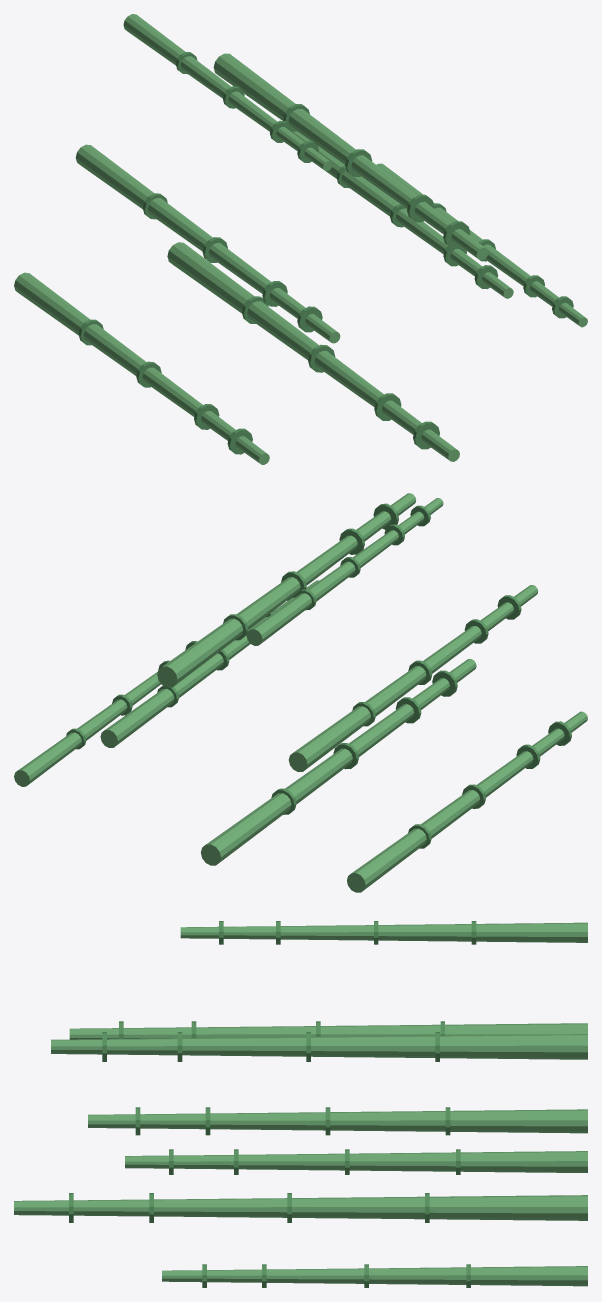
Rendered from probe_bamboo.glb.
The picture shows the model from 3 angles, top to bottom: view 1: azimuth 30°, elevation 25°; view 2: azimuth 150°, elevation 25°; view 3: azimuth 270°, elevation 25°; orthographic projection. The views are drawn at different scales.
Visible parts, largest first — view 1: culm_1, culm_5, culm_0, culm_4, culm_6, culm_2, culm_3; view 2: culm_1, culm_5, culm_0, culm_4, culm_6, culm_2, culm_3; view 3: culm_1, culm_5, culm_4, culm_2, culm_3, culm_6, culm_0.
Boxes of the visible parts, x1,y1,x2,y2 form: culm_1: (167, 242, 459, 461); culm_5: (213, 53, 488, 259); culm_0: (75, 144, 340, 343); culm_4: (14, 272, 269, 464); culm_6: (123, 14, 332, 170); culm_2: (291, 131, 513, 298); culm_3: (376, 163, 587, 327); culm_1: (200, 659, 476, 865); culm_5: (157, 493, 416, 687); culm_0: (288, 585, 538, 771); culm_4: (347, 711, 587, 892); culm_6: (246, 498, 443, 645); culm_2: (100, 580, 318, 747); culm_3: (14, 671, 160, 786); culm_1: (14, 1195, 587, 1220); culm_5: (51, 1034, 587, 1059); culm_4: (88, 1109, 587, 1133); culm_2: (125, 1151, 587, 1172); culm_3: (162, 1266, 587, 1286); culm_6: (180, 922, 587, 942); culm_0: (69, 1023, 587, 1039).
Size of the model in its own units: 4.88 by 3.29 by 6.2.
